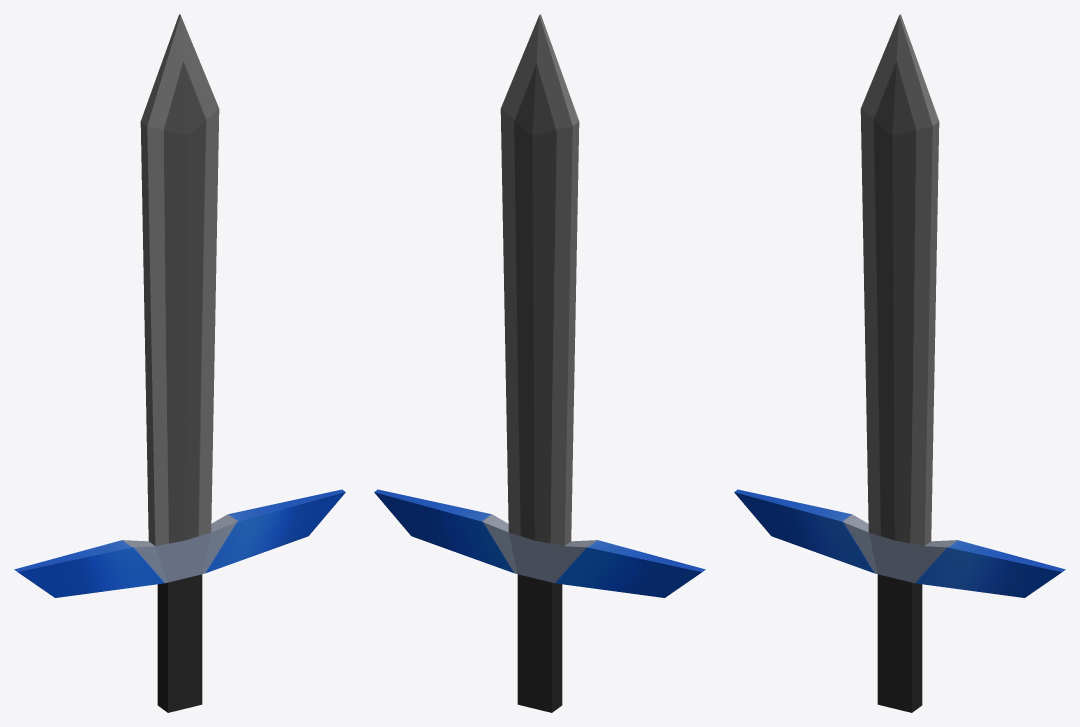
Rendered from sword.fbx.
3 views of the same model, side by side, from view 1: azimuth 30°, elevation 25°; view 2: azimuth 150°, elevation 25°; view 3: azimuth 330°, elevation 25° (orthographic).
Parts seen in each view (by area): view 1: sword; view 2: sword; view 3: sword.
Boxes of the visible parts, box(x1,y1,x2,y2) form: sword: box(14, 14, 345, 712); sword: box(374, 14, 705, 712); sword: box(734, 14, 1065, 712).
Bounding box in the file's own units: 173 × 349 × 13.8.
